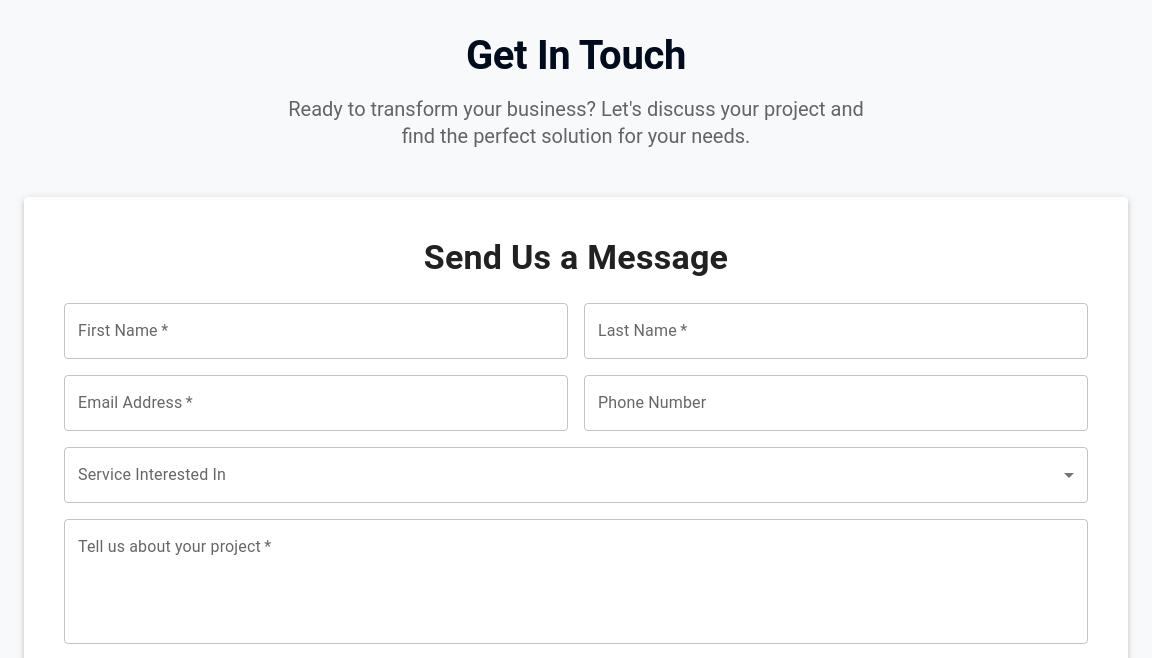
Test: GetInTouchForm › shows overlay while submitting
The width and height of the screenshot is (1152, 658).
Type "John" into the field labelled "First Name *" at (316, 331), box [64,303,568,359]
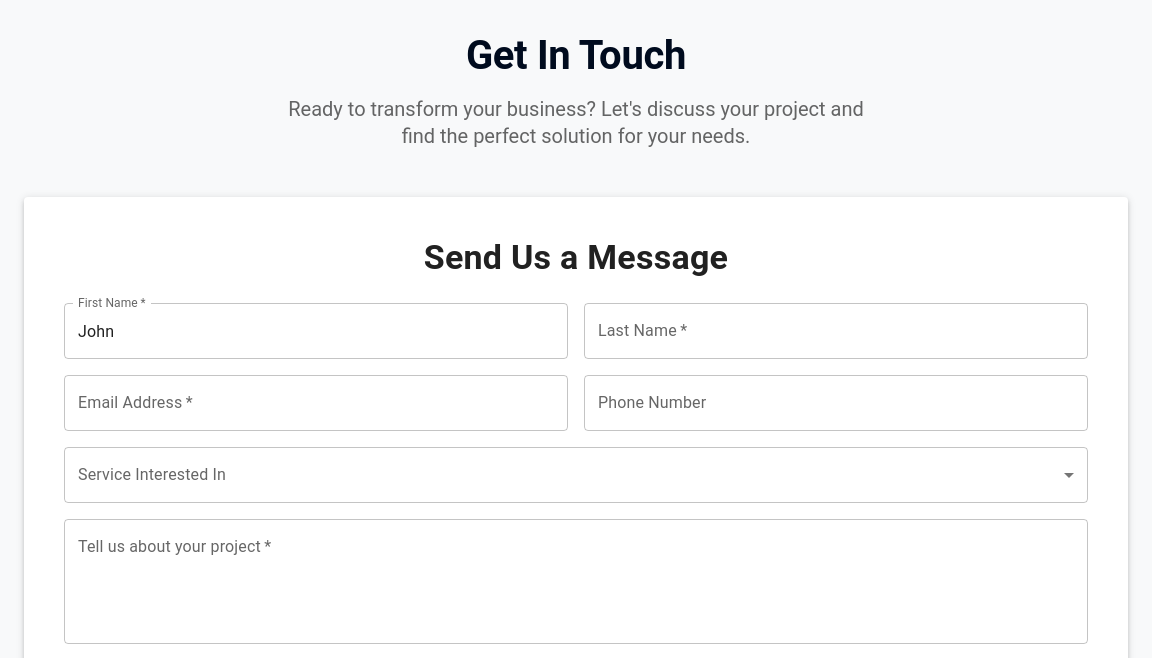
Type "Doe" into the field labelled "Last Name *" at (836, 331), box [584,303,1088,359]
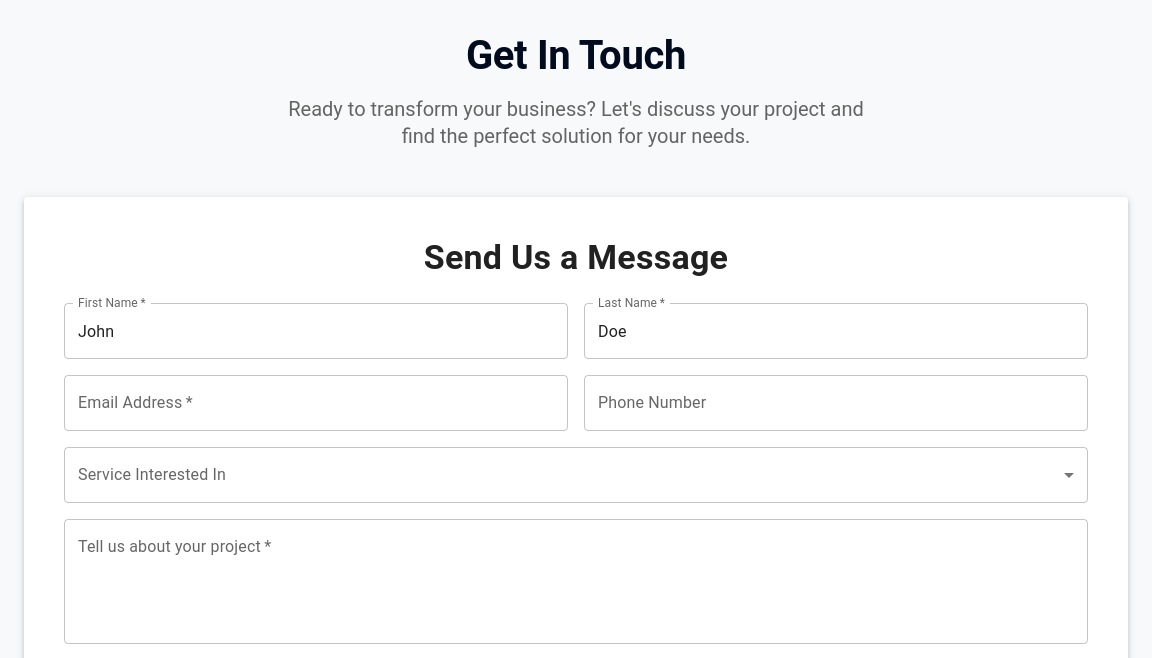
Type "test@example.com" into the field labelled "Email Address *" at (316, 403), box [64,375,568,431]
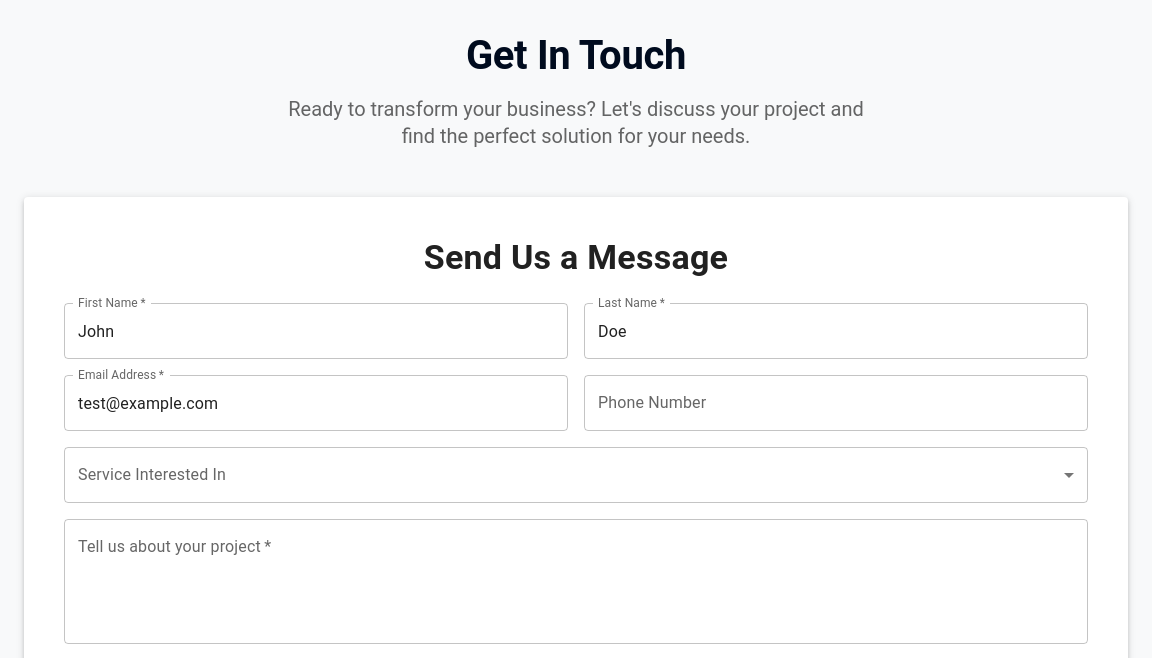
Type "Hello" into the text box labelled "Tell us about your project *" at (576, 582), box [78,536,1074,628]
(page scrolled)
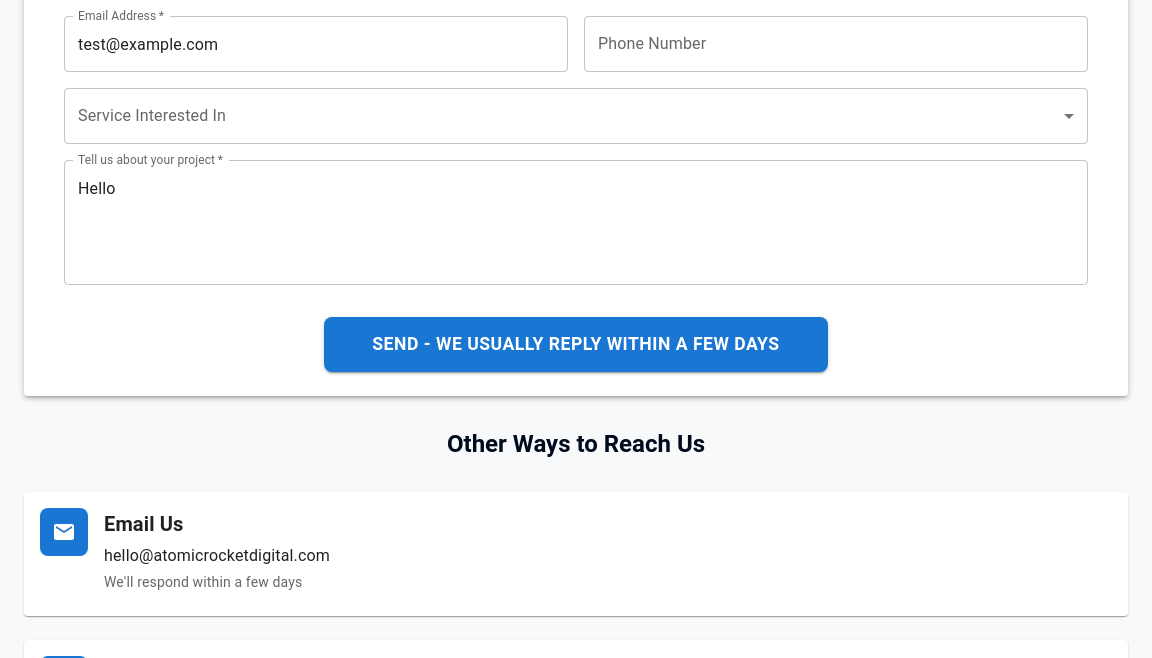
Click the button "Send - we usually reply within a few days" at (576, 345), box [324,317,828,372]
(page scrolled)
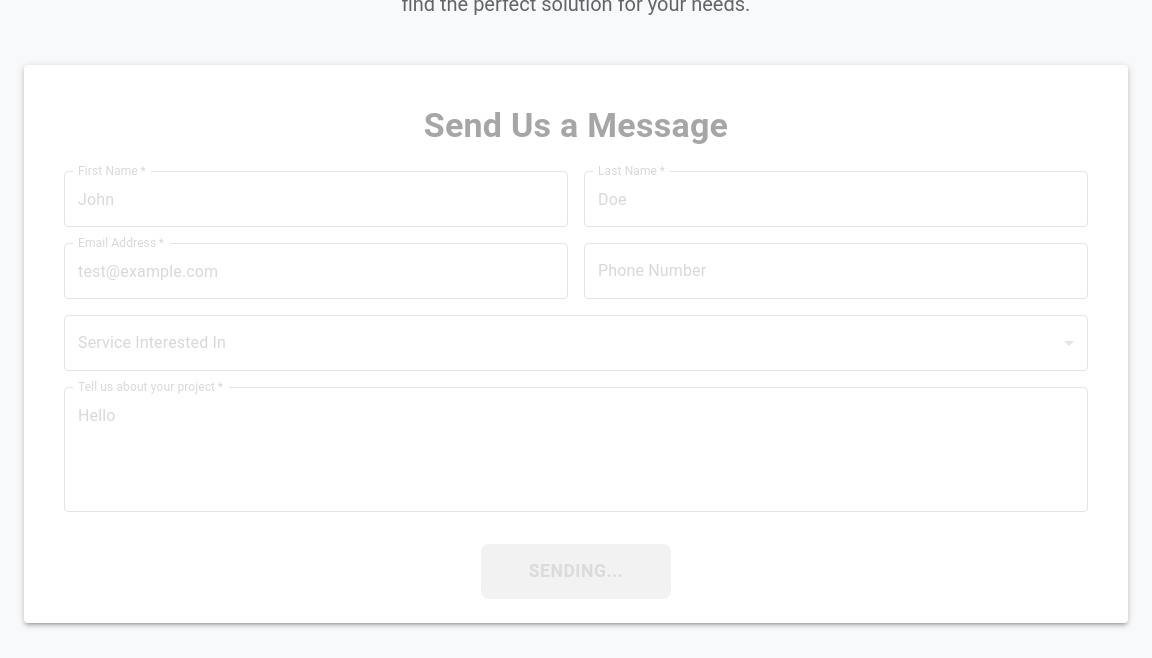
Check: the element with test id "loading-overlay" is shown
